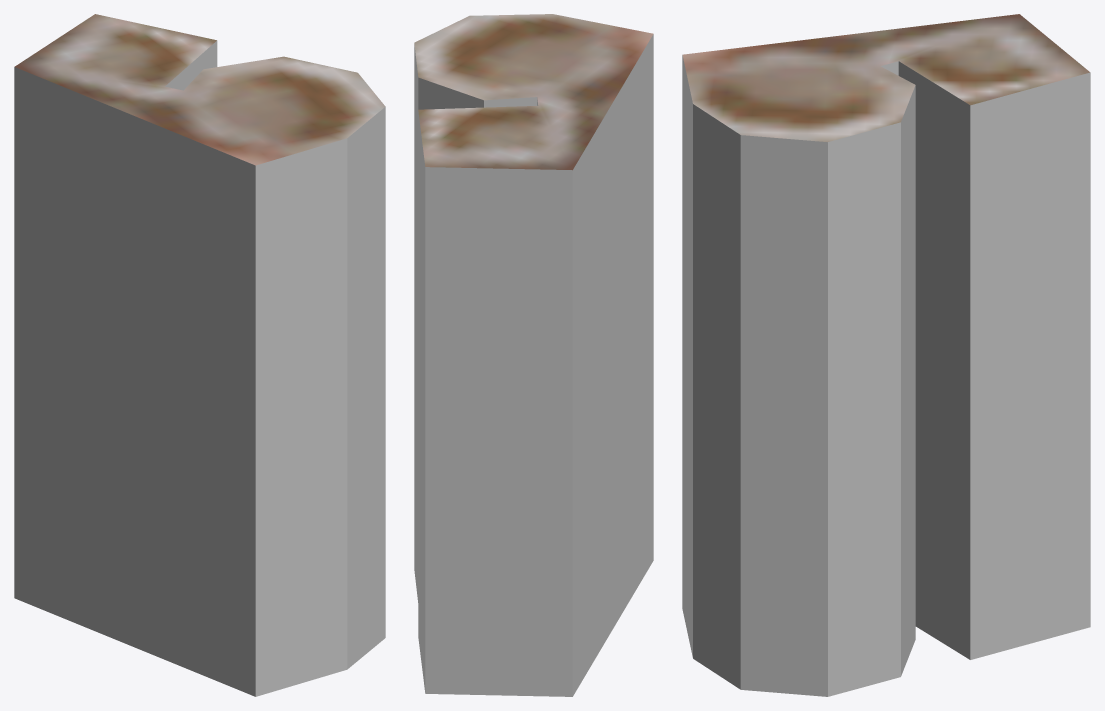
The model's file is DEBW_001000gVM6u.gltf.
3 renders of one model, left to right at view 1: azimuth 30°, elevation 25°; view 2: azimuth 150°, elevation 25°; view 3: azimuth 270°, elevation 25°, orthographic. The views are drawn at different scales.
Parts seen in each view (by area): view 1: Z_UP; view 2: Z_UP; view 3: Z_UP.
Part boxes in pixels (left/top/right/bottom): Z_UP: left=14, top=14, right=385, bottom=696; Z_UP: left=414, top=14, right=653, bottom=696; Z_UP: left=682, top=14, right=1090, bottom=696.
Size of the model in its own units: 4.32 by 8.72 by 5.81.
2 materials, 1 textured.
